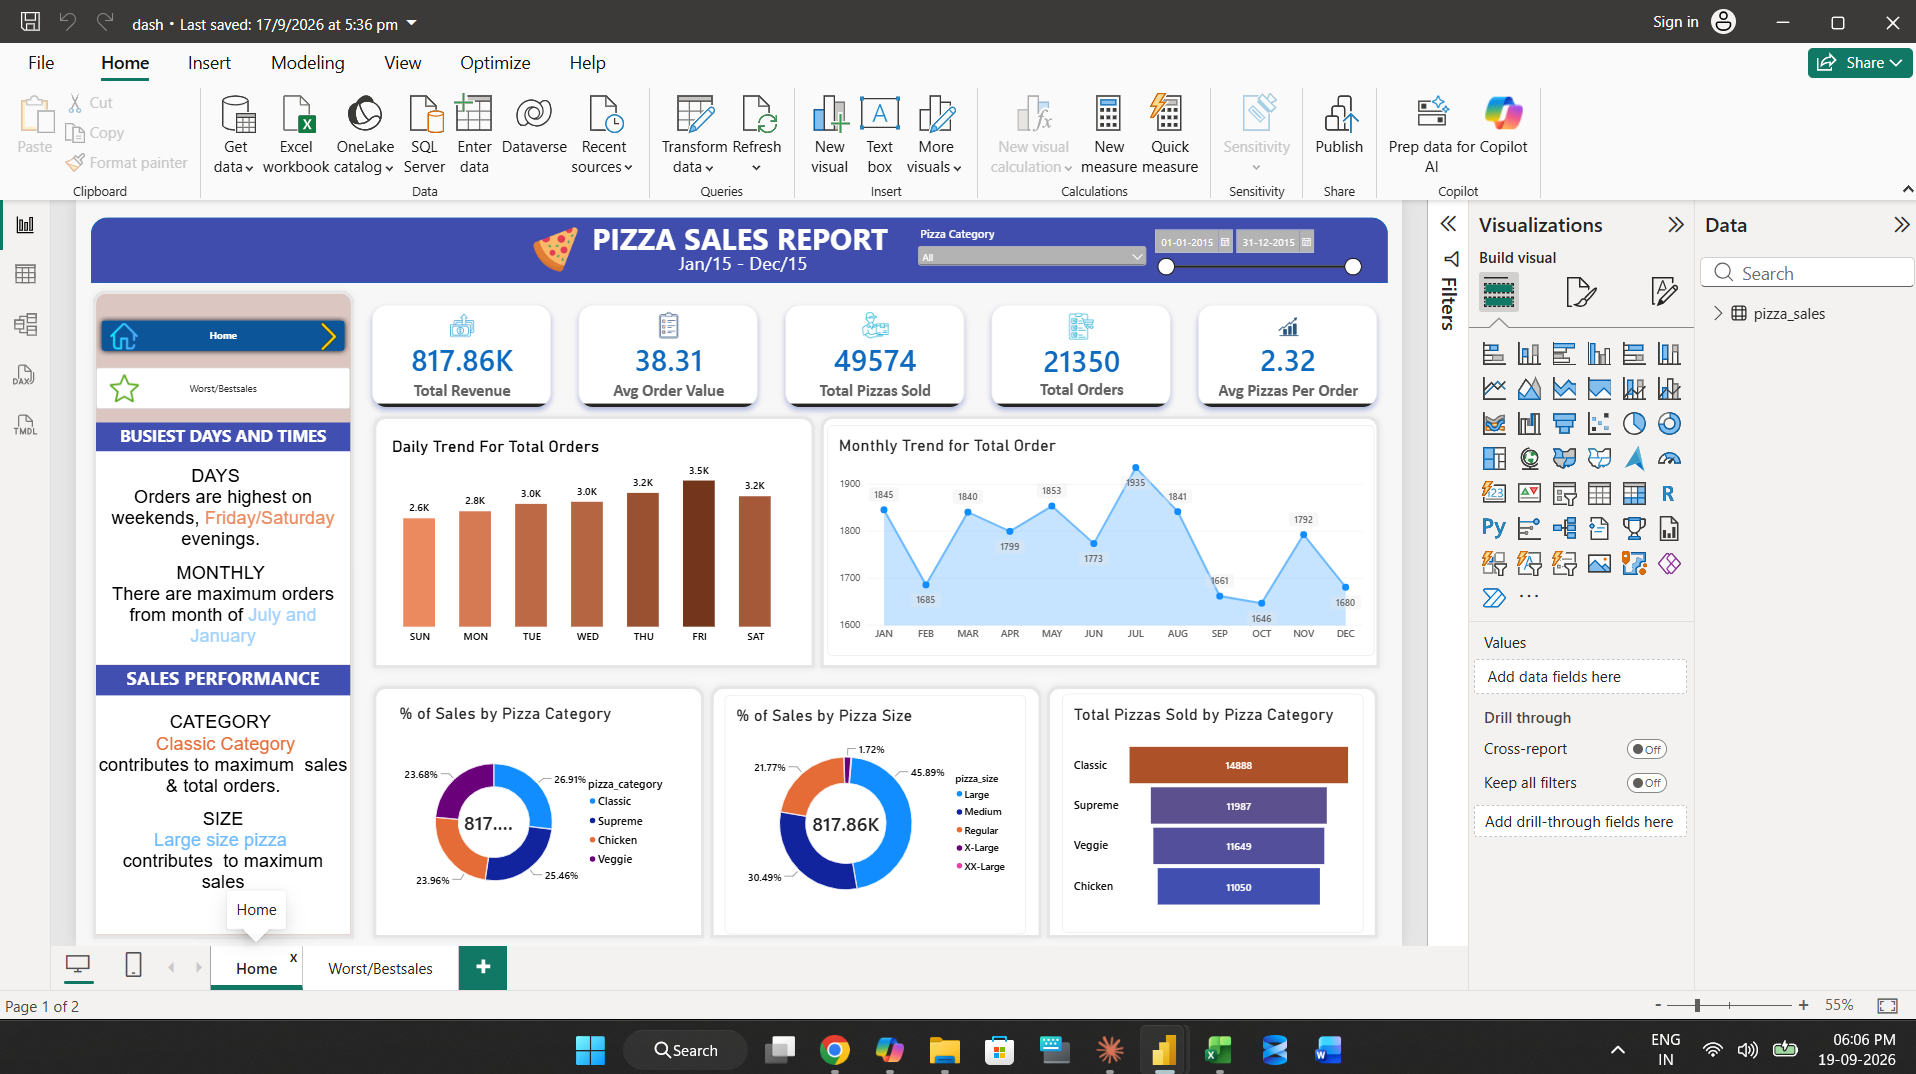

Layout of this report page (visuals, bound fields, positions):
{"tool":"powerbi","page":{"name":"Home","canvas":[1920,1080],"ordinal":0},"visuals":[{"type":"cardVisual","fields":{"Data":["pizza_sales.Total Revenue","pizza_sales.Avg Order Value","pizza_sales.Total Pizzas Sold","pizza_sales.Total Orders","pizza_sales.Avg Pizzas Per Order"]},"box":[412,136,1488,180],"z":0},{"type":"shape","box":[22.5,25,1877.5,95],"z":1000},{"type":"textbox","box":[575,25,772.5,77.5],"z":2000},{"type":"textbox","box":[872.5,72.5,283.3,63.3],"z":3000},{"type":"image","box":[647.5,37.5,92.5,67.5],"z":4000},{"type":"shape","box":[420,302,660,386],"z":5000},{"type":"columnChart","title":"Daily Trend For Total Orders","fields":{"Category":["pizza_sales.Order Day"],"Y":["pizza_sales.Total Orders"]},"box":[442,328,599,334.8],"z":6000},{"type":"shape","box":[1068,302,830,386],"z":7000},{"type":"areaChart","title":"Monthly Trend for Total Order","fields":{"Category":["pizza_sales.Order Month"],"Y":["pizza_sales.Total Orders"]},"box":[1088,326,792,334],"z":8000},{"type":"shape","box":[908,694,500,386],"z":9000},{"type":"shape","box":[1396,694,500,386],"z":10000},{"type":"donutChart","title":"% of Sales by Pizza Size","fields":{"Category":["pizza_sales.pizza_size"],"Y":["pizza_sales.Total Revenue"]},"box":[940,716,436,346],"z":11000},{"type":"funnel","title":"Total Pizzas Sold by Pizza Category","fields":{"Category":["pizza_sales.pizza_category"],"Y":["pizza_sales.Total Pizzas Sold"]},"box":[1428,714,436,346],"z":12000},{"type":"shape","box":[13.6,121.8,398,958],"z":13000},{"type":"textbox","box":[28.9,321.7,367.8,43],"z":14000},{"type":"shape","box":[420,694,500,386],"z":15000},{"type":"textbox","box":[28.8,364.4,368.1,308.8],"z":16000},{"type":"donutChart","title":"% of Sales by Pizza Category","fields":{"Category":["pizza_sales.pizza_category"],"Y":["pizza_sales.Total Revenue"]},"box":[452,714,436,346],"z":17000},{"type":"textbox","box":[28,750,368,166],"z":18000},{"type":"textbox","box":[28.8,716.2,368.1,346.2],"z":19000},{"type":"textbox","box":[28.8,672.5,368,43.8],"z":20000},{"type":"slicer","fields":{"Values":["pizza_sales.pizza_category"]},"box":[1215,38.3,340,65],"z":21000},{"type":"slicer","fields":{"Values":["pizza_sales.order_date"]},"box":[1555,38.3,310,81.7],"z":22000},{"type":"pageNavigator","box":[29.2,165.8,368.3,60],"z":23000},{"type":"pageNavigator","box":[29.2,241.7,368.3,60],"z":24000},{"type":"image","box":[330.8,177.5,70,40.8],"z":25000},{"type":"image","box":[35,177.5,70,40],"z":26000},{"type":"image","box":[48.3,249.2,42.5,45],"z":27000}]}

Visuals, with their boxes on the page's 1920x1080 design canvas (x1, y1, x2, y2). These are canvas units, not pixel positions in the 1916x1074 screenshot, which may show the page scaled, cropped or inside an application window:
cardVisual - pizza_sales.Total Revenue x pizza_sales.Avg Order Value: box=[412, 136, 1900, 316]
shape: box=[22, 25, 1900, 120]
textbox: box=[575, 25, 1348, 102]
textbox: box=[872, 72, 1156, 136]
image: box=[648, 38, 740, 105]
shape: box=[420, 302, 1080, 688]
"Daily Trend For Total Orders" columnChart: box=[442, 328, 1041, 663]
shape: box=[1068, 302, 1898, 688]
"Monthly Trend for Total Order" areaChart: box=[1088, 326, 1880, 660]
shape: box=[908, 694, 1408, 1080]
shape: box=[1396, 694, 1896, 1080]
"% of Sales by Pizza Size" donutChart: box=[940, 716, 1376, 1062]
"Total Pizzas Sold by Pizza Category" funnel: box=[1428, 714, 1864, 1060]
shape: box=[14, 122, 412, 1080]
textbox: box=[29, 322, 397, 365]
shape: box=[420, 694, 920, 1080]
textbox: box=[29, 364, 397, 673]
"% of Sales by Pizza Category" donutChart: box=[452, 714, 888, 1060]
textbox: box=[28, 750, 396, 916]
textbox: box=[29, 716, 397, 1062]
textbox: box=[29, 672, 397, 716]
slicer - pizza_sales.pizza_category: box=[1215, 38, 1555, 103]
slicer - pizza_sales.order_date: box=[1555, 38, 1865, 120]
pageNavigator: box=[29, 166, 398, 226]
pageNavigator: box=[29, 242, 398, 302]
image: box=[331, 178, 401, 218]
image: box=[35, 178, 105, 218]
image: box=[48, 249, 91, 294]
